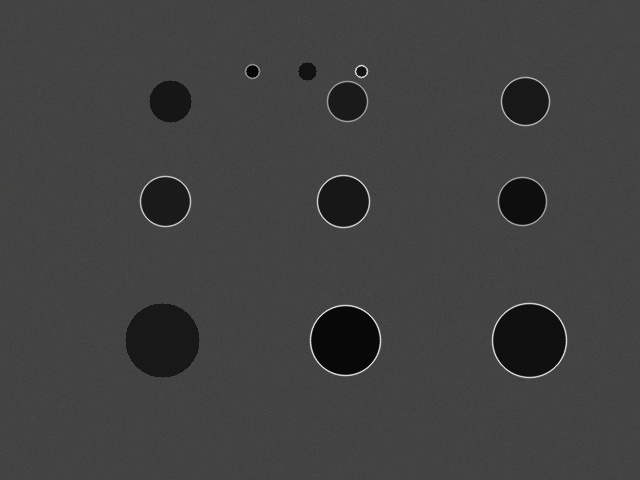hole: (125, 303, 199, 377), (492, 303, 566, 377), (310, 305, 380, 375), (317, 175, 369, 227), (140, 176, 190, 226), (501, 77, 549, 125), (498, 177, 546, 225), (149, 80, 191, 122), (327, 81, 367, 121), (298, 62, 316, 80), (245, 64, 259, 78), (355, 65, 367, 77)
